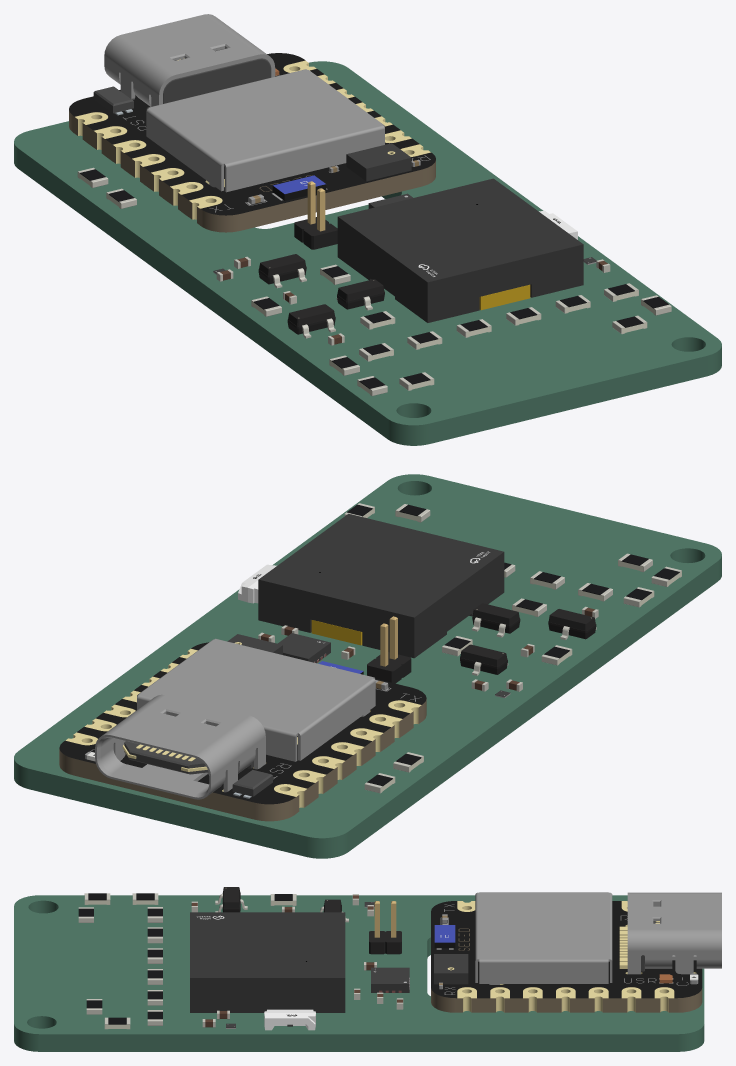
The model's file is new_pcb.glb.
3 views of the same model, one above another, from view 1: azimuth 30°, elevation 25°; view 2: azimuth 150°, elevation 25°; view 3: azimuth 270°, elevation 25° (orthographic). The views are drawn at different scales.
Parts seen in each view (by area): view 1: =>[0:1:1:11], BZ1, Shield:1, =>[0:1:1:39], CHAMFER9:1, CUT-EXTRUDE5:1, =>[0:1:1:42], J4, U3, D3, Q1, ANT1:1 (+1 smaller); view 2: =>[0:1:1:11], BZ1, Shield:1, =>[0:1:1:39], CHAMFER9:1, J4, MIRROR2:1, Q1, U3, D3, U5, Body:1 (+1 smaller); view 3: =>[0:1:1:11], BZ1, Shield:1, =>[0:1:1:39], CHAMFER9:1, J4, =>[0:1:1:42], U5, LED1, U3, ANT1:1, R14 (+4 smaller).
Part boxes in pixels (bbox=[...]): =>[0:1:1:11]: bbox=[14, 61, 721, 445]; BZ1: bbox=[337, 178, 583, 322]; Shield:1: bbox=[146, 69, 384, 192]; =>[0:1:1:39]: bbox=[69, 53, 435, 232]; CHAMFER9:1: bbox=[104, 14, 275, 106]; CUT-EXTRUDE5:1: bbox=[163, 58, 270, 103]; =>[0:1:1:42]: bbox=[346, 143, 411, 181]; J4: bbox=[294, 181, 337, 249]; U3: bbox=[287, 304, 335, 338]; D3: bbox=[258, 254, 306, 288]; Q1: bbox=[336, 279, 384, 310]; ANT1:1: bbox=[272, 175, 326, 200]; =>[0:1:1:11]: bbox=[14, 474, 721, 858]; BZ1: bbox=[258, 513, 504, 658]; Shield:1: bbox=[137, 638, 375, 761]; =>[0:1:1:39]: bbox=[59, 642, 426, 821]; CHAMFER9:1: bbox=[95, 694, 265, 799]; J4: bbox=[367, 616, 411, 683]; MIRROR2:1: bbox=[122, 741, 208, 774]; Q1: bbox=[472, 603, 520, 637]; U3: bbox=[548, 609, 596, 640]; D3: bbox=[460, 644, 508, 675]; U5: bbox=[278, 633, 330, 663]; Body:1: bbox=[232, 770, 272, 796]; =>[0:1:1:11]: bbox=[14, 895, 704, 1051]; BZ1: bbox=[190, 912, 345, 1012]; Shield:1: bbox=[475, 892, 612, 984]; =>[0:1:1:39]: bbox=[431, 901, 702, 1012]; CHAMFER9:1: bbox=[627, 892, 721, 974]; J4: bbox=[369, 901, 401, 954]; =>[0:1:1:42]: bbox=[434, 954, 468, 984]; U5: bbox=[371, 967, 409, 992]; LED1: bbox=[264, 1009, 315, 1030]; U3: bbox=[215, 887, 247, 912]; ANT1:1: bbox=[434, 925, 455, 948]; R14: bbox=[104, 1017, 130, 1029].
Size of the model in its own units: 0.0254 by 0.00689 by 0.0547.
